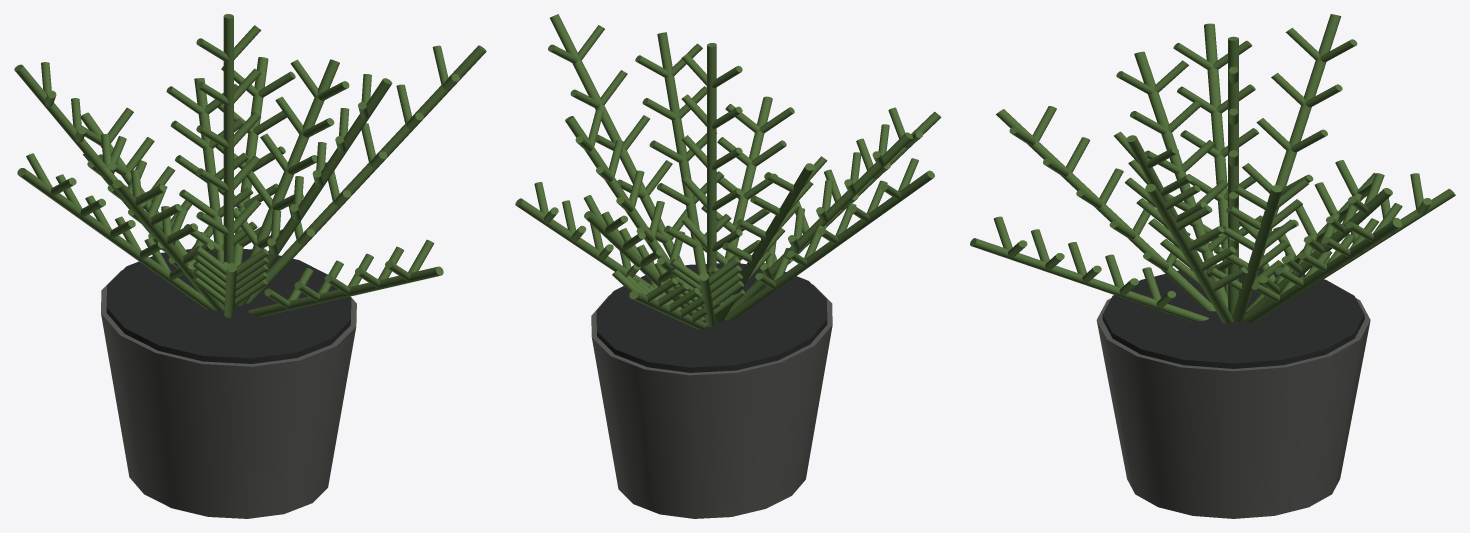
File: ikea-fejka.glb
3 renders of one model, left to right at view 1: azimuth 30°, elevation 25°; view 2: azimuth 150°, elevation 25°; view 3: azimuth 270°, elevation 25°, orthographic. The views are drawn at different scales.
Parts seen in each view (by area): view 1: ikea-fejka; view 2: ikea-fejka; view 3: ikea-fejka.
Boxes of the visible parts, left/top/right/bottom form: ikea-fejka: left=14, top=14, right=486, bottom=518; ikea-fejka: left=515, top=14, right=941, bottom=518; ikea-fejka: left=970, top=14, right=1455, bottom=518.
Size of the model in its own units: 0.21 by 0.21 by 0.21.
